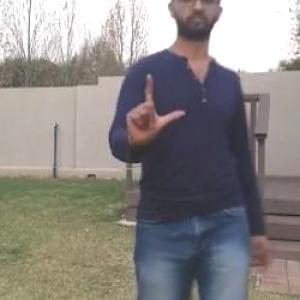land_hand: (120, 68, 188, 150)
